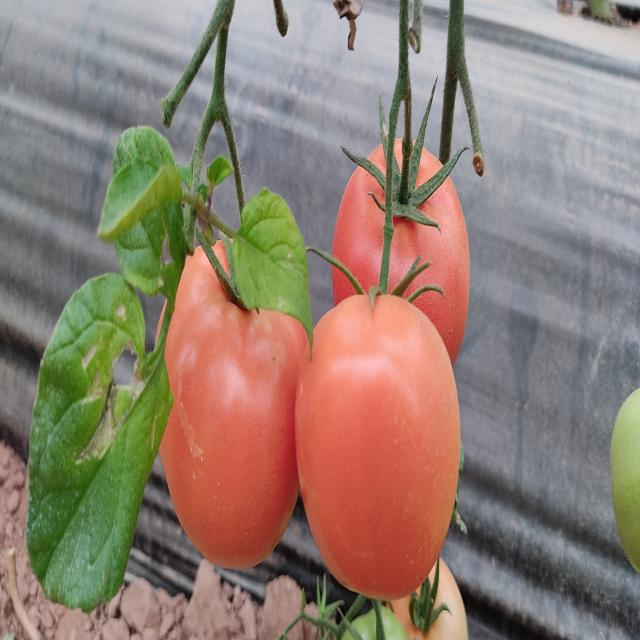Ripe Tomato: (290, 244, 462, 594), (154, 228, 308, 572), (327, 133, 475, 377)
